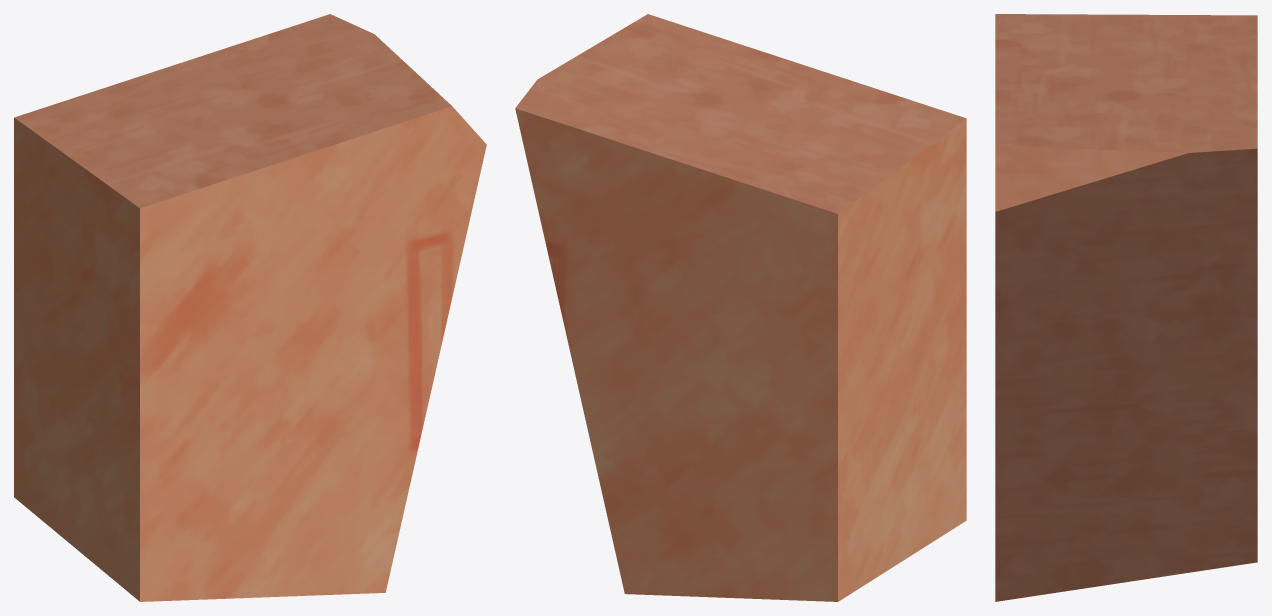
File: townwall_s03.fbx
3 renders of one model, left to right at view 1: azimuth 30°, elevation 25°; view 2: azimuth 150°, elevation 25°; view 3: azimuth 270°, elevation 25°, orthographic. The views are drawn at different scales.
Parts seen in each view (by area): view 1: townwall_s03; view 2: townwall_s03; view 3: townwall_s03.
Boxes of the visible parts, x1=… form: townwall_s03: x1=14, y1=14, x2=486, y2=601; townwall_s03: x1=515, y1=14, x2=966, y2=601; townwall_s03: x1=995, y1=14, x2=1257, y2=601.
Size of the model in its own units: 4.77 by 6.18 by 3.
